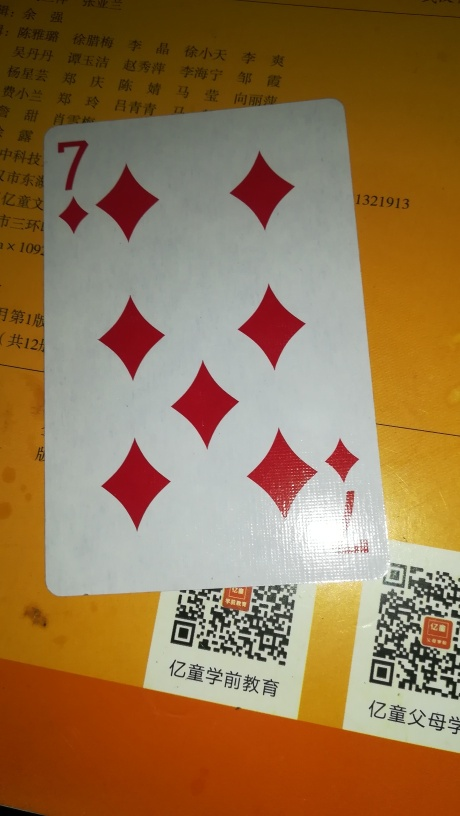fk 7: (39, 95, 388, 584)
